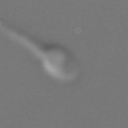normal: (1, 21, 45, 54)
